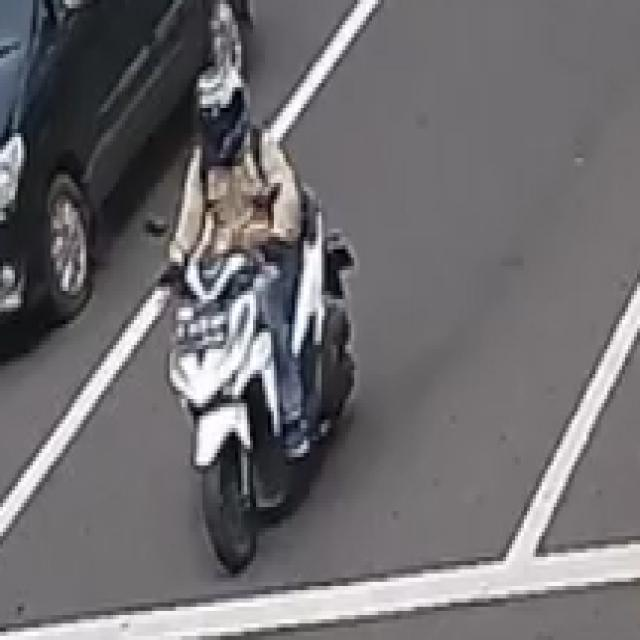helm: (188, 60, 265, 174)
motor: (131, 34, 373, 598)
spion: (135, 205, 174, 248), (247, 178, 287, 213)
